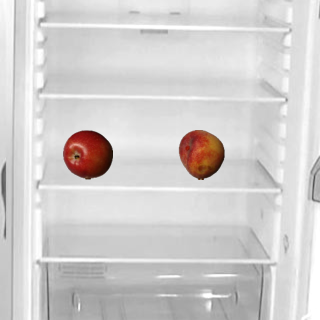Apple Braeburn: (62, 129, 112, 179)
Peach: (176, 129, 226, 179)
